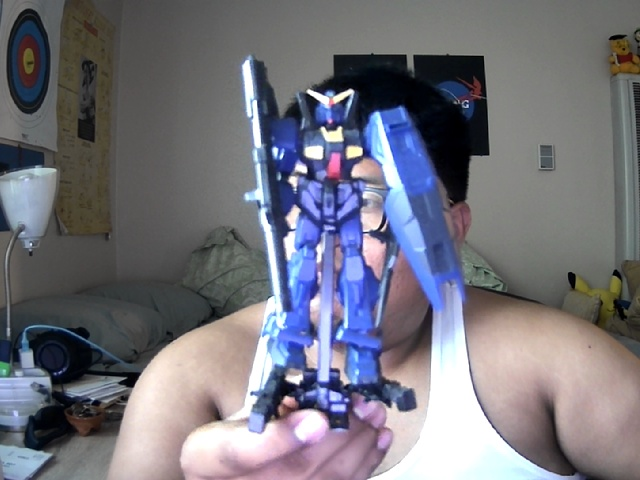Mk-11-Titans: (240, 55, 465, 388)
